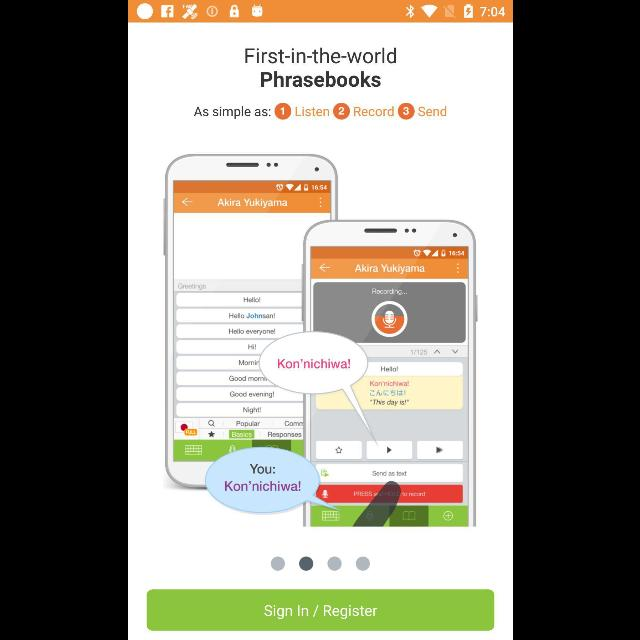image: (162, 154, 478, 526)
pageindicator: (270, 556, 370, 570)
text: (194, 102, 446, 120), (244, 48, 396, 64), (260, 72, 380, 88)
textbutton: (146, 590, 494, 630)
uppertaskbar: (128, 1, 512, 23)
